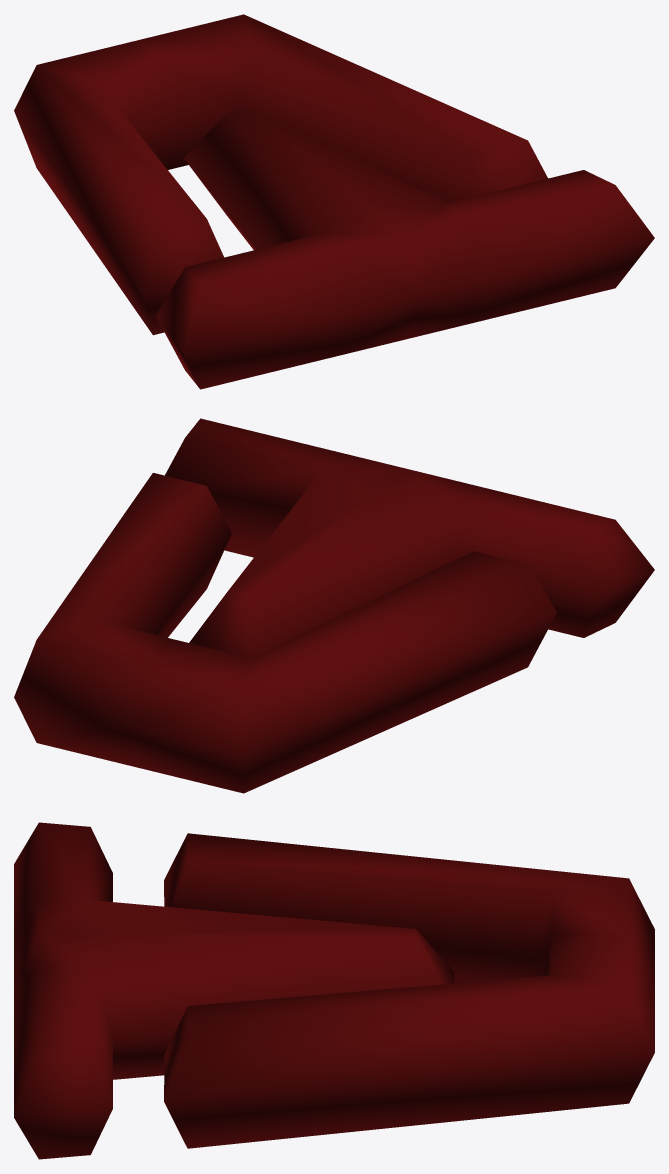
Rendered from flag_red.fbx.
The picture shows the model from 3 angles, top to bottom: view 1: azimuth 30°, elevation 25°; view 2: azimuth 150°, elevation 25°; view 3: azimuth 270°, elevation 25°; orthographic projection. The views are drawn at different scales.
Parts seen in each view (by area): view 1: FlagT, FlagV; view 2: FlagV, FlagT; view 3: FlagV, FlagT.
Part boxes in pixels (x1,y1,x2,y2): FlagT: [156, 108, 654, 389]; FlagV: [14, 14, 547, 335]; FlagV: [14, 473, 556, 793]; FlagT: [165, 418, 654, 658]; FlagV: [164, 833, 654, 1148]; FlagT: [14, 822, 454, 1159].
Bounding box in the file's own units: 58.5 × 12.24 × 62.51.
1 material, 1 textured.
